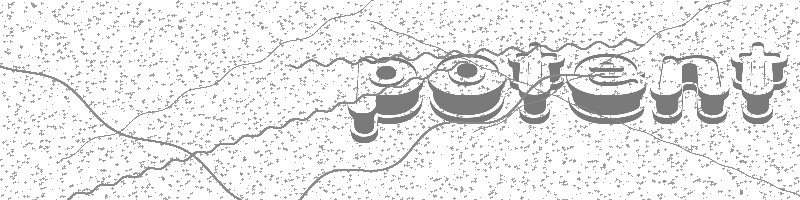e: (564, 50, 647, 125)
n: (648, 48, 729, 125)
o: (427, 46, 507, 127)
p: (346, 51, 424, 145)
t: (728, 41, 789, 126), (508, 38, 566, 123)
